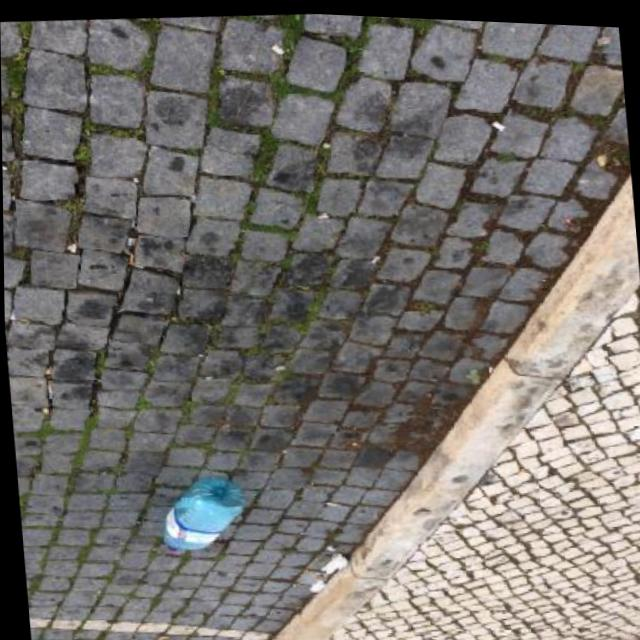plastic: (155, 470, 250, 557)
